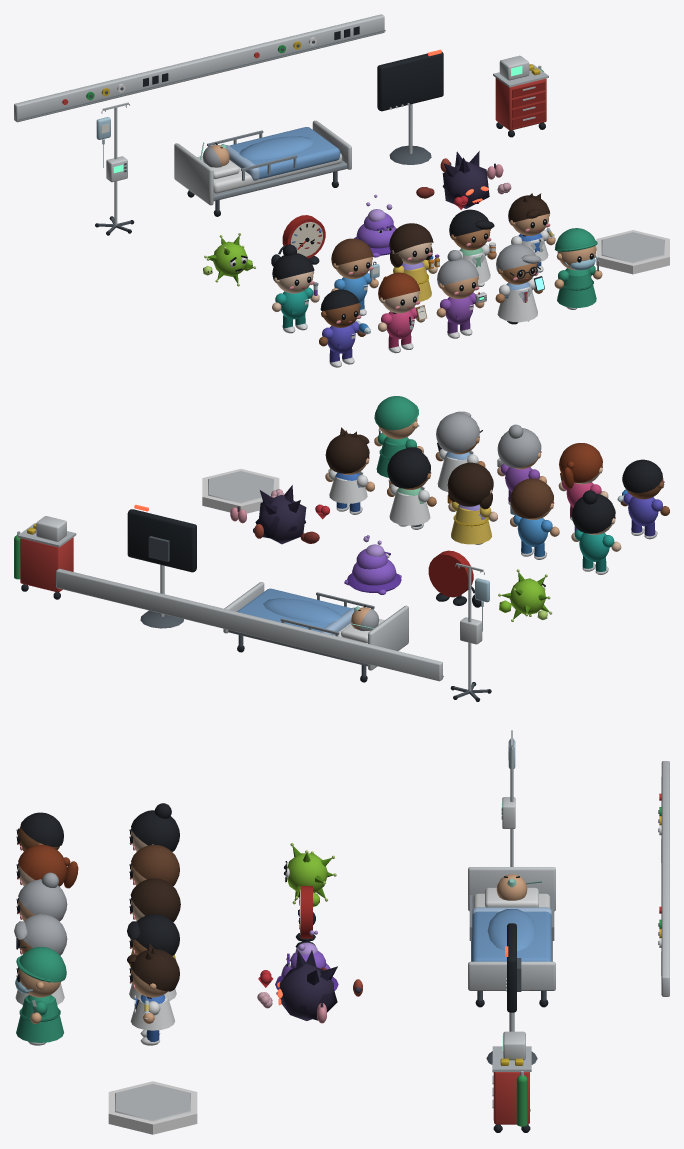
File: models.glb
3 renders of one model, top to bottom at view 1: azimuth 30°, elevation 25°; view 2: azimuth 150°, elevation 25°; view 3: azimuth 270°, elevation 25°, orthographic. The views are drawn at different scales.
Parts seen in each view (by area): view 1: env_bed__body, env_rail__body, env_monitor__body, env_cart__body, tile_hex__body, enemy_mods__body, env_ivpole__body, ipc_culture__head, enemy_hypotension__body, rn_lactate__head, senior_rn__head, surgeon__head (+18 smaller); view 2: env_rail__body, env_bed__body, env_monitor__body, env_cart__body, tile_hex__body, enemy_mods__body, enemy_lactate__body, enemy_hypotension__body, ipc_culture__head, env_ivpole__body, resident__head, np__head (+18 smaller); view 3: env_bed__body, tile_hex__body, env_cart__body, enemy_mods__body, env_rail__body, surgeon__head, resident__head, np__head, surgeon__body, rn_lactate__head, senior_rn__head, ipc_culture__head (+10 smaller).
Part boxes in pixels (left/top/right/bottom): env_bed__body: left=174, top=120, right=351, bottom=216; env_rail__body: left=14, top=14, right=385, bottom=122; env_monitor__body: left=377, top=49, right=443, bottom=164; env_cart__body: left=493, top=55, right=548, bottom=137; tile_hex__body: left=596, top=230, right=669, bottom=274; enemy_mods__body: left=442, top=151, right=489, bottom=208; env_ivpole__body: left=95, top=102, right=134, bottom=235; ipc_culture__head: left=389, top=223, right=433, bottom=267; enemy_hypotension__body: left=271, top=215, right=325, bottom=266; rn_lactate__head: left=272, top=244, right=314, bottom=293; senior_rn__head: left=437, top=250, right=479, bottom=298; surgeon__head: left=554, top=228, right=597, bottom=270; env_rail__body: left=56, top=568, right=443, bottom=681; env_bed__body: left=223, top=582, right=408, bottom=682; env_monitor__body: left=127, top=504, right=196, bottom=628; env_cart__body: left=14, top=516, right=76, bottom=599; tile_hex__body: left=202, top=469, right=279, bottom=513; enemy_mods__body: left=255, top=485, right=306, bottom=544; enemy_lactate__body: left=344, top=544, right=401, bottom=594; enemy_hypotension__body: left=428, top=550, right=481, bottom=607; ipc_culture__head: left=447, top=462, right=493, bottom=509; env_ivpole__body: left=450, top=563, right=491, bottom=701; resident__head: left=325, top=427, right=369, bottom=474; np__head: left=559, top=443, right=602, bottom=488; env_bed__body: left=468, top=867, right=555, bottom=1007; tile_hex__body: left=108, top=1081, right=197, bottom=1134; env_cart__body: left=492, top=1031, right=531, bottom=1132; enemy_mods__body: left=277, top=950, right=337, bottom=1020; env_rail__body: left=658, top=761, right=669, bottom=996; surgeon__head: left=15, top=947, right=66, bottom=997; resident__head: left=127, top=943, right=179, bottom=997; np__head: left=16, top=845, right=78, bottom=888; surgeon__body: left=16, top=995, right=63, bottom=1045; rn_lactate__head: left=129, top=803, right=179, bottom=851; senior_rn__head: left=16, top=872, right=67, bottom=921; ipc_culture__head: left=129, top=878, right=180, bottom=922.
Size of the model in its own units: 12.72 by 3.41 by 12.79.
